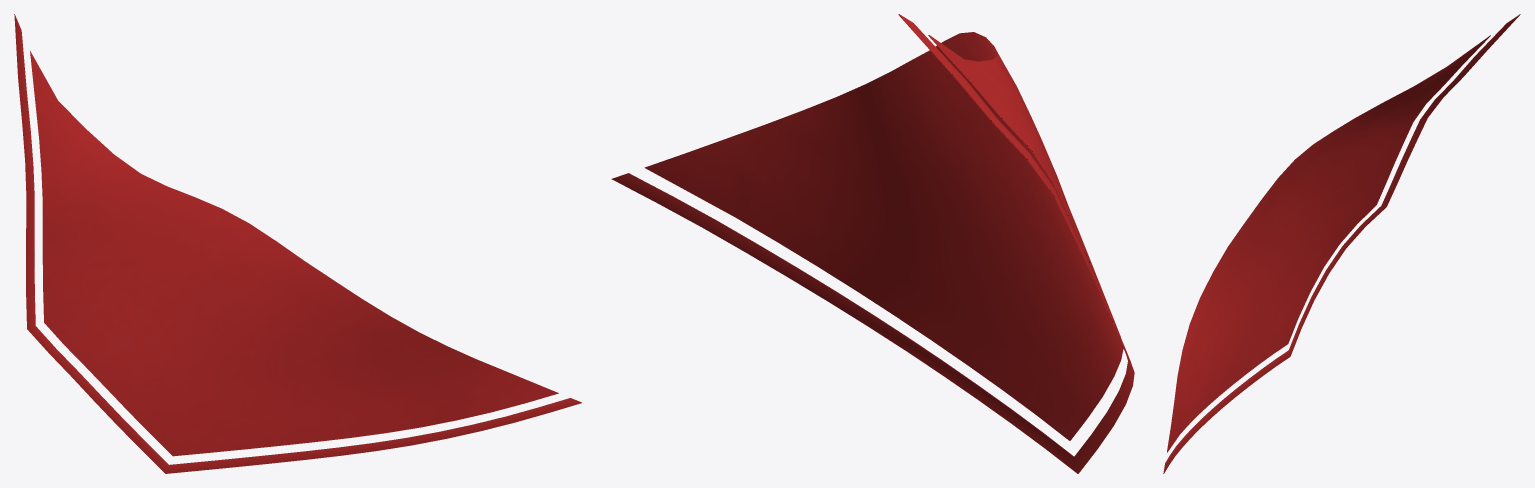
File: Jac_Pocket_Decor_LEFT_V1.glb
3 renders of one model, left to right at view 1: azimuth 30°, elevation 25°; view 2: azimuth 150°, elevation 25°; view 3: azimuth 270°, elevation 25°, orthographic. The views are drawn at different scales.
Visible parts, largest first — view 1: Jac_Pocket_Decor_LEFT_V1.001; view 2: Jac_Pocket_Decor_LEFT_V1.001; view 3: Jac_Pocket_Decor_LEFT_V1.001.
Boxes of the visible parts, x1=… form: Jac_Pocket_Decor_LEFT_V1.001: x1=14, y1=14, x2=581, y2=473; Jac_Pocket_Decor_LEFT_V1.001: x1=611, y1=14, x2=1134, y2=473; Jac_Pocket_Decor_LEFT_V1.001: x1=1163, y1=14, x2=1520, y2=473.
Size of the model in its own units: 0.0967 by 0.0796 by 0.0774.
Materials: 1 (1 with a texture image).
